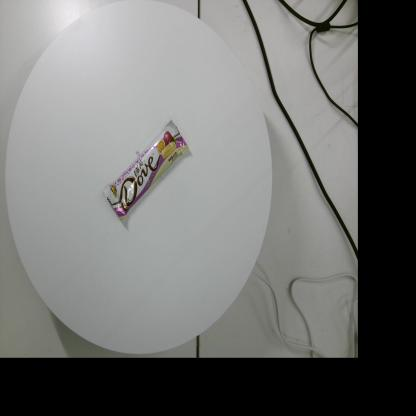Chocolate: (103, 120, 189, 220)
